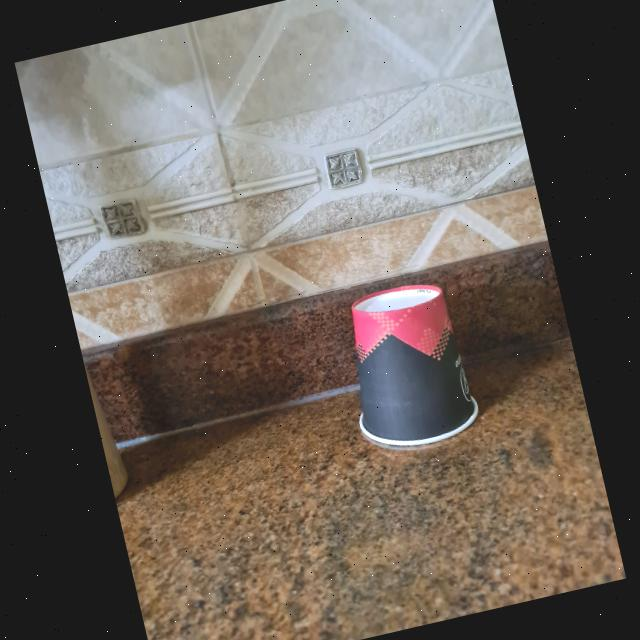trash: (328, 270, 487, 460)
